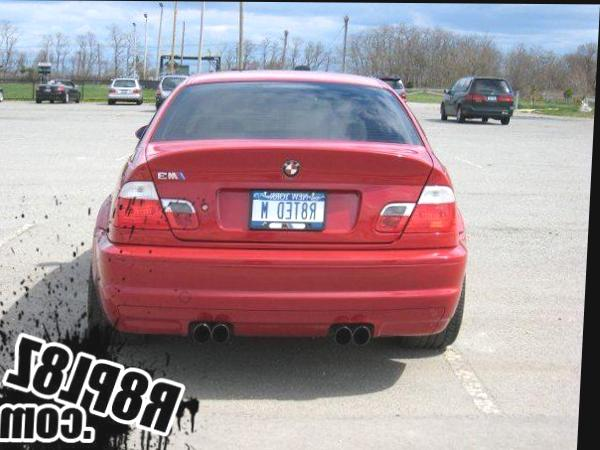License_Plate: (245, 189, 331, 231)
